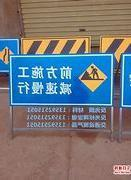sign: (9, 54, 114, 105)
